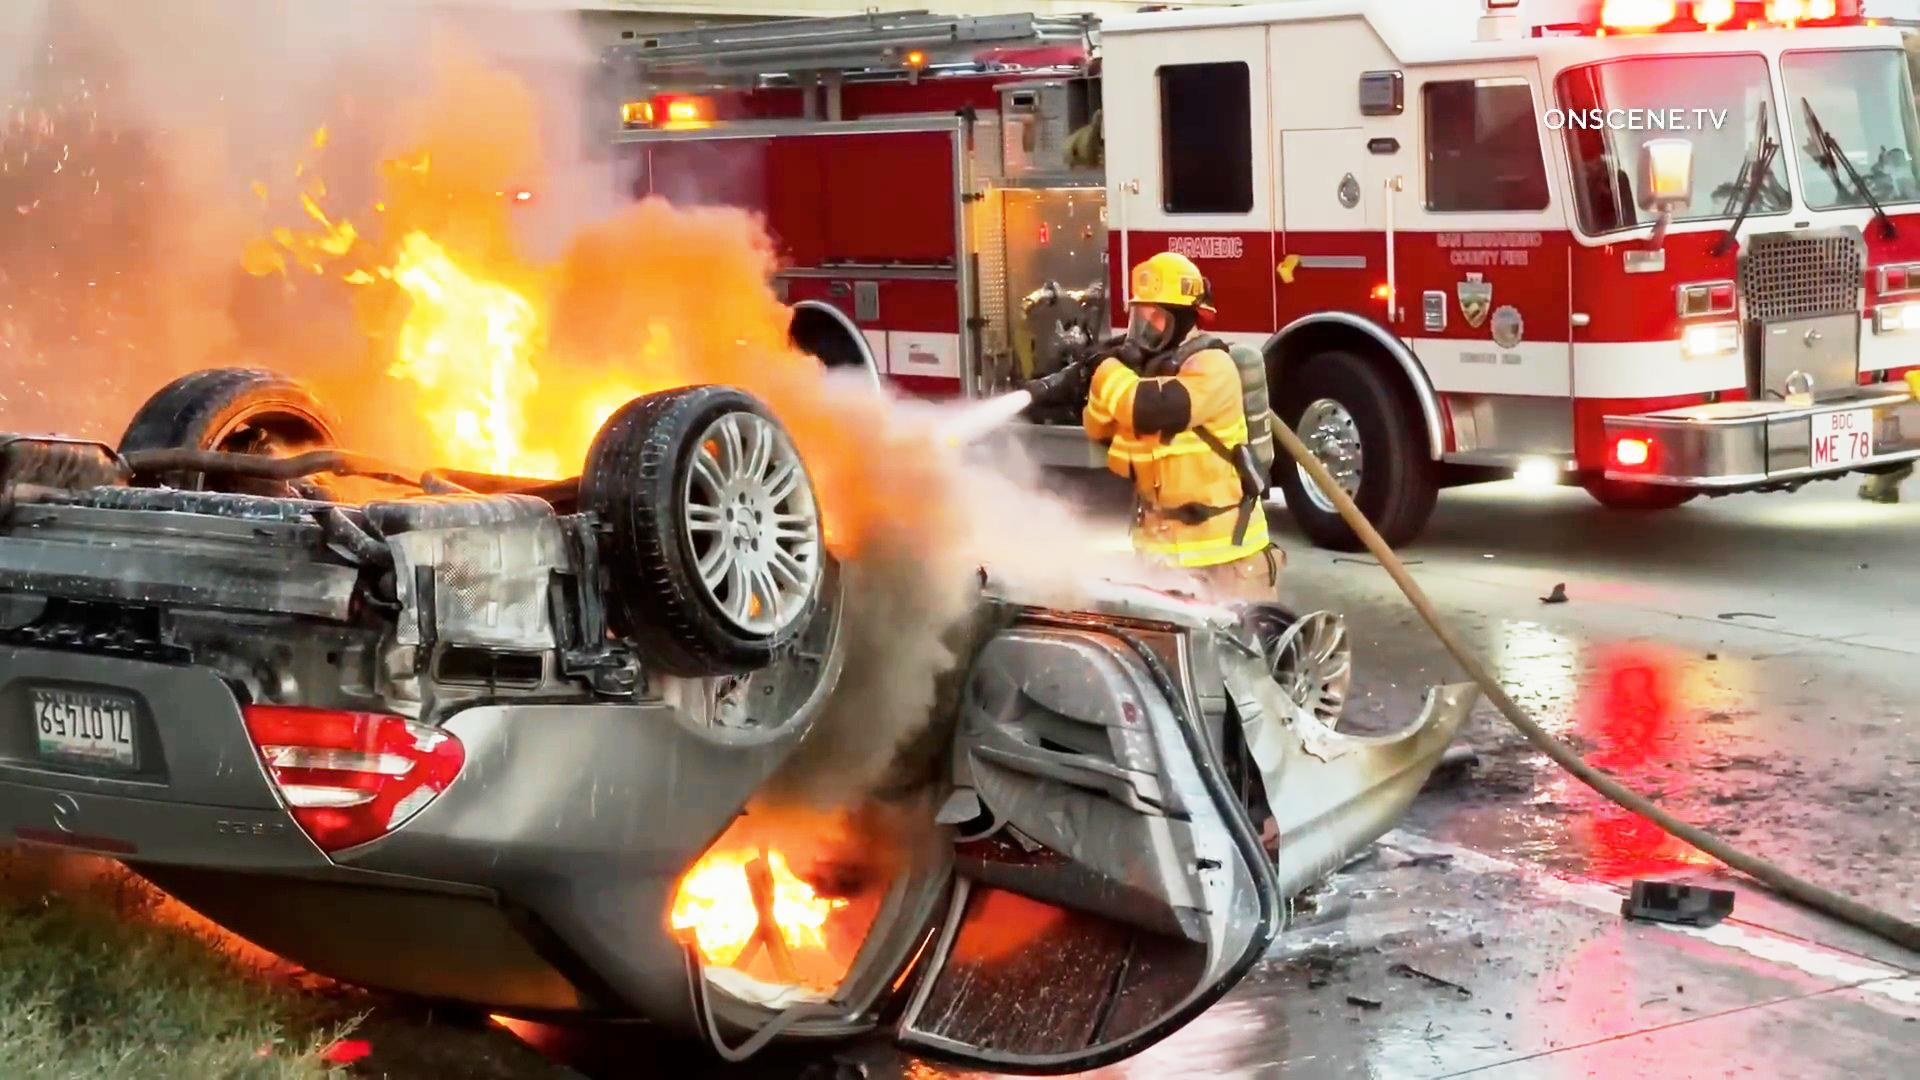fire: (237, 169, 607, 483), (676, 837, 837, 978)
smoke: (3, 4, 229, 373), (243, 4, 633, 171), (621, 189, 818, 389), (824, 377, 1013, 576), (845, 562, 955, 735)
